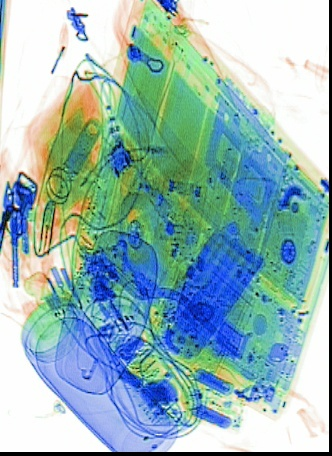powerbank: (154, 226, 263, 359)
